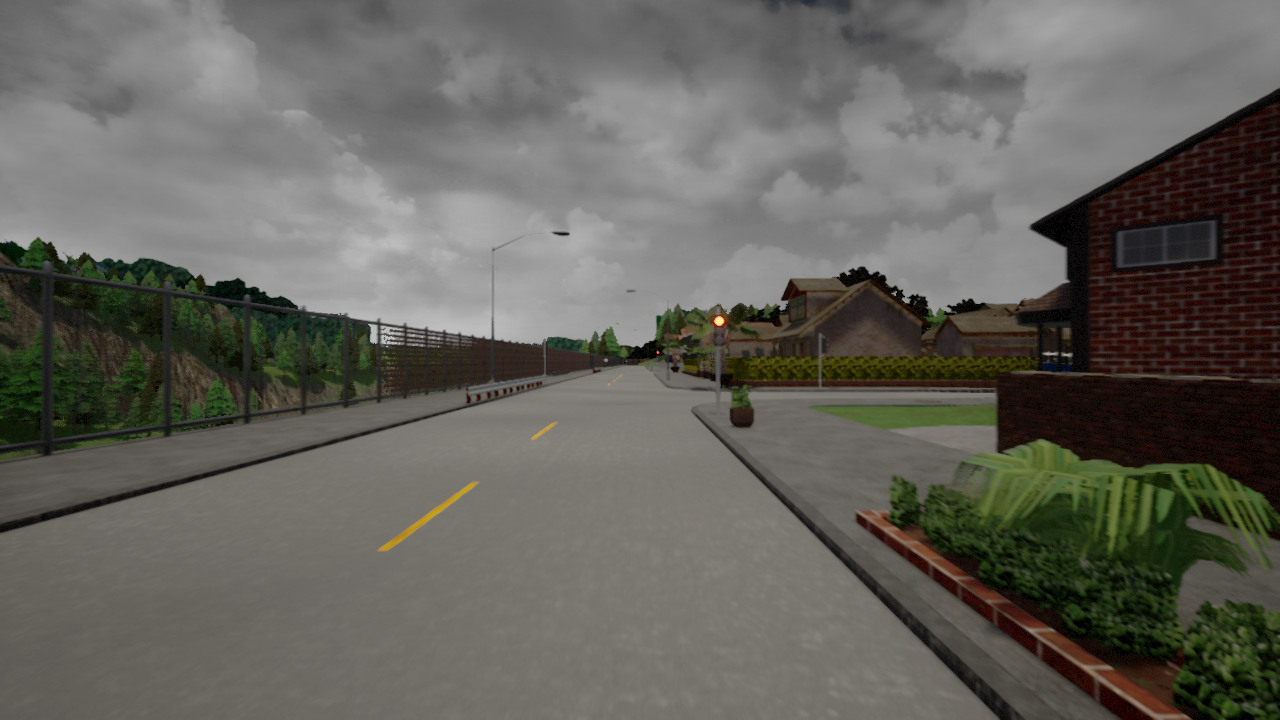red: (712, 314, 725, 347)
